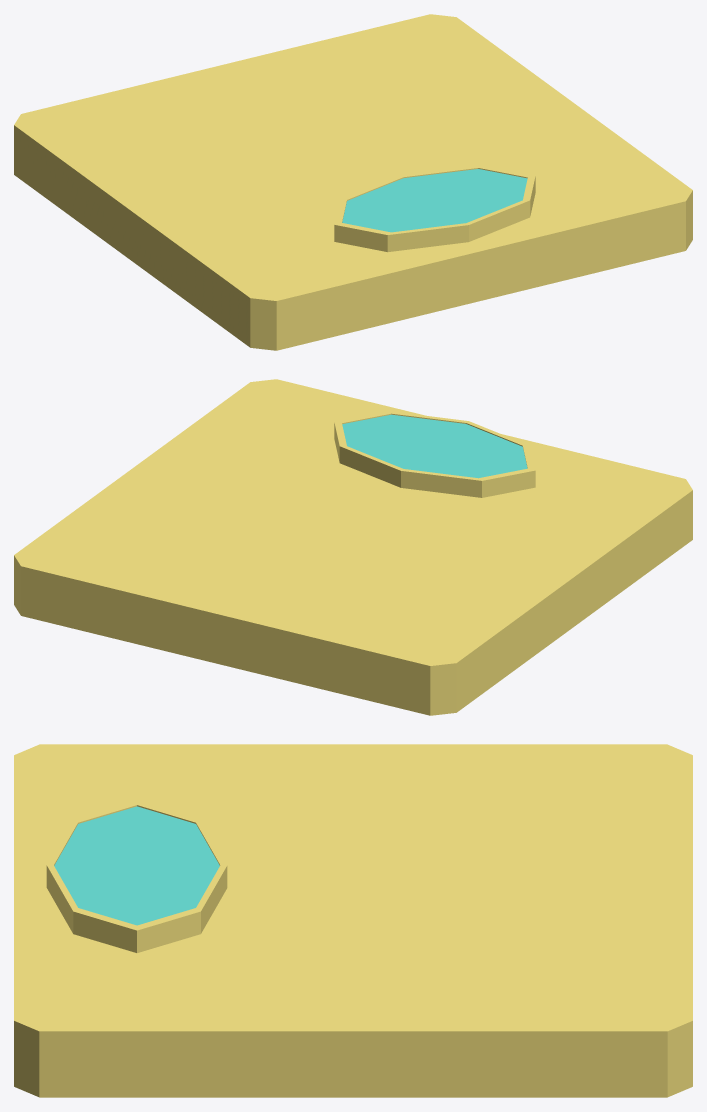
The model's file is balance.fbx.
3 views of the same model, one above another, from view 1: azimuth 30°, elevation 25°; view 2: azimuth 150°, elevation 25°; view 3: azimuth 270°, elevation 25° (orthographic). The views are drawn at different scales.
Visible parts, largest first — view 1: Cube, Cylinder; view 2: Cube, Cylinder; view 3: Cube, Cylinder.
Boxes of the visible parts, x1,y1,x2,y2 form: Cube: (14, 14, 692, 350); Cylinder: (334, 165, 535, 252); Cube: (14, 379, 692, 715); Cylinder: (334, 411, 535, 497); Cube: (14, 744, 692, 1097); Cylinder: (46, 800, 227, 952).
Size of the model in its own units: 200 by 28.83 by 200.
